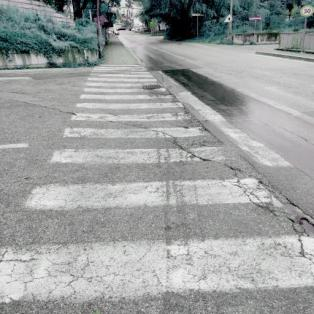Paso de Cebra: (27, 140, 282, 219), (70, 93, 189, 112)
